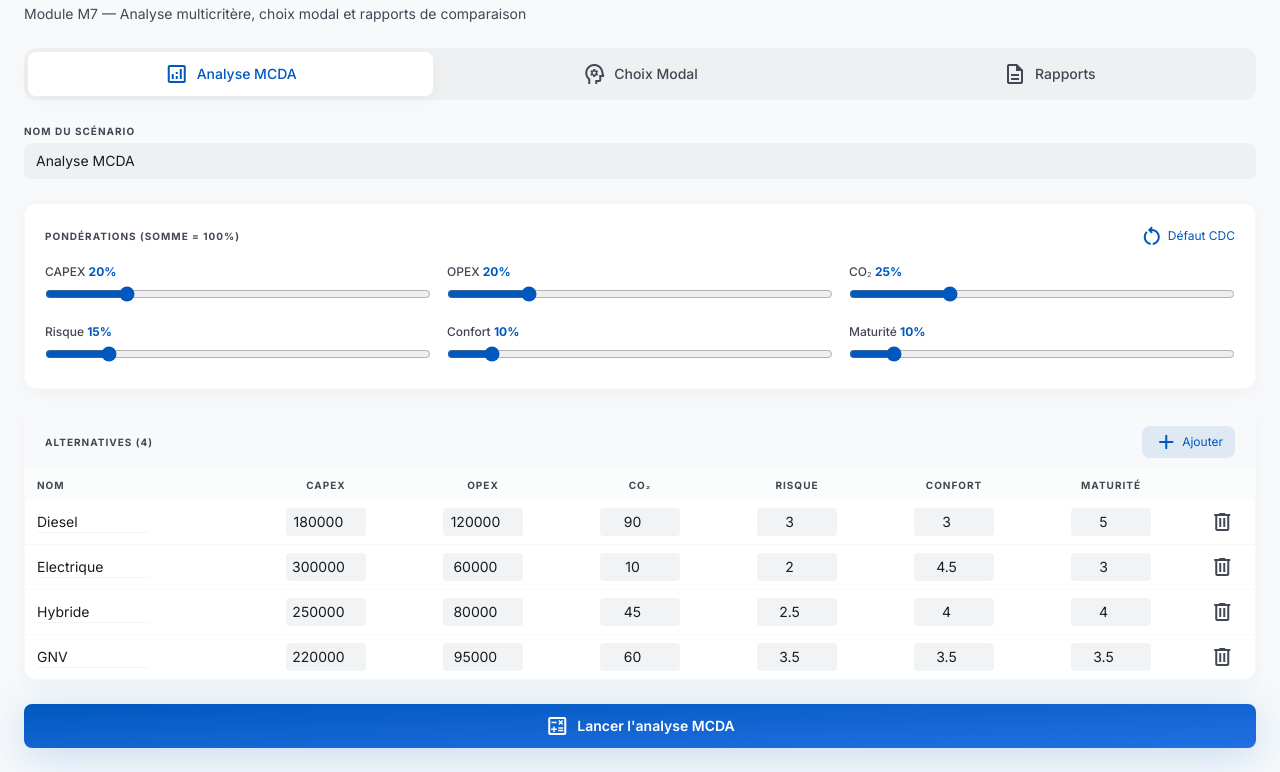
Test case: ScoringDashboardPage › shows results table after MCDA computation
(page scrolled)
Click the button "Lancer l'analyse MCDA": (640, 726) 24,704 -> 1256,748
(page scrolled)
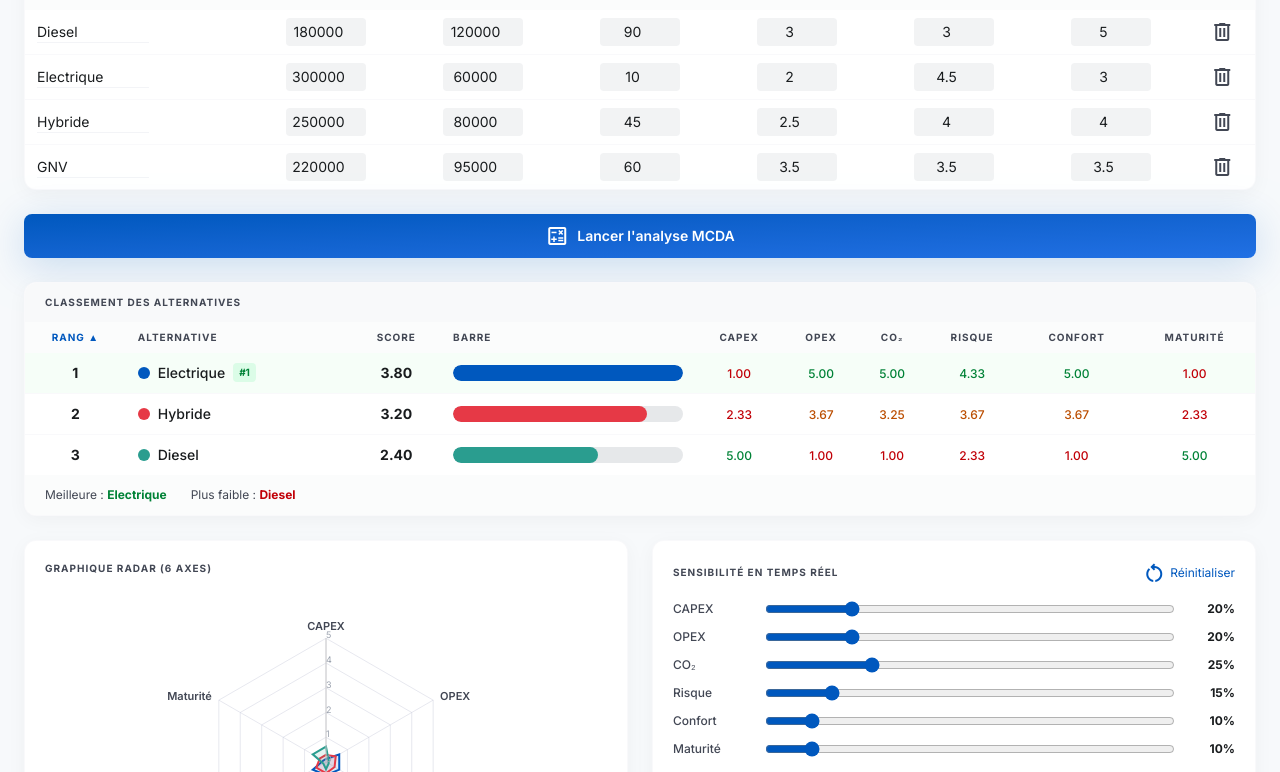
Expected: the text "3.80" is shown, 352,353 -> 441,393
